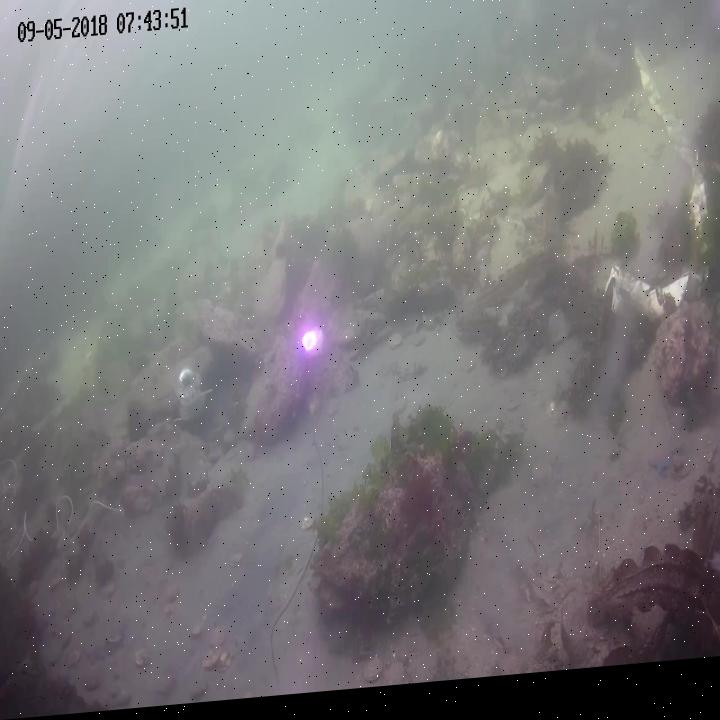scallop: (360, 660, 384, 690), (377, 667, 402, 694), (530, 470, 553, 498), (188, 616, 210, 643), (134, 648, 156, 671), (106, 628, 127, 652), (82, 671, 100, 698), (201, 650, 221, 673), (209, 630, 228, 652), (228, 552, 246, 575), (386, 335, 403, 358), (299, 517, 317, 537), (69, 643, 79, 668), (219, 656, 234, 672)
starfish: (649, 453, 675, 486), (88, 642, 102, 669)
